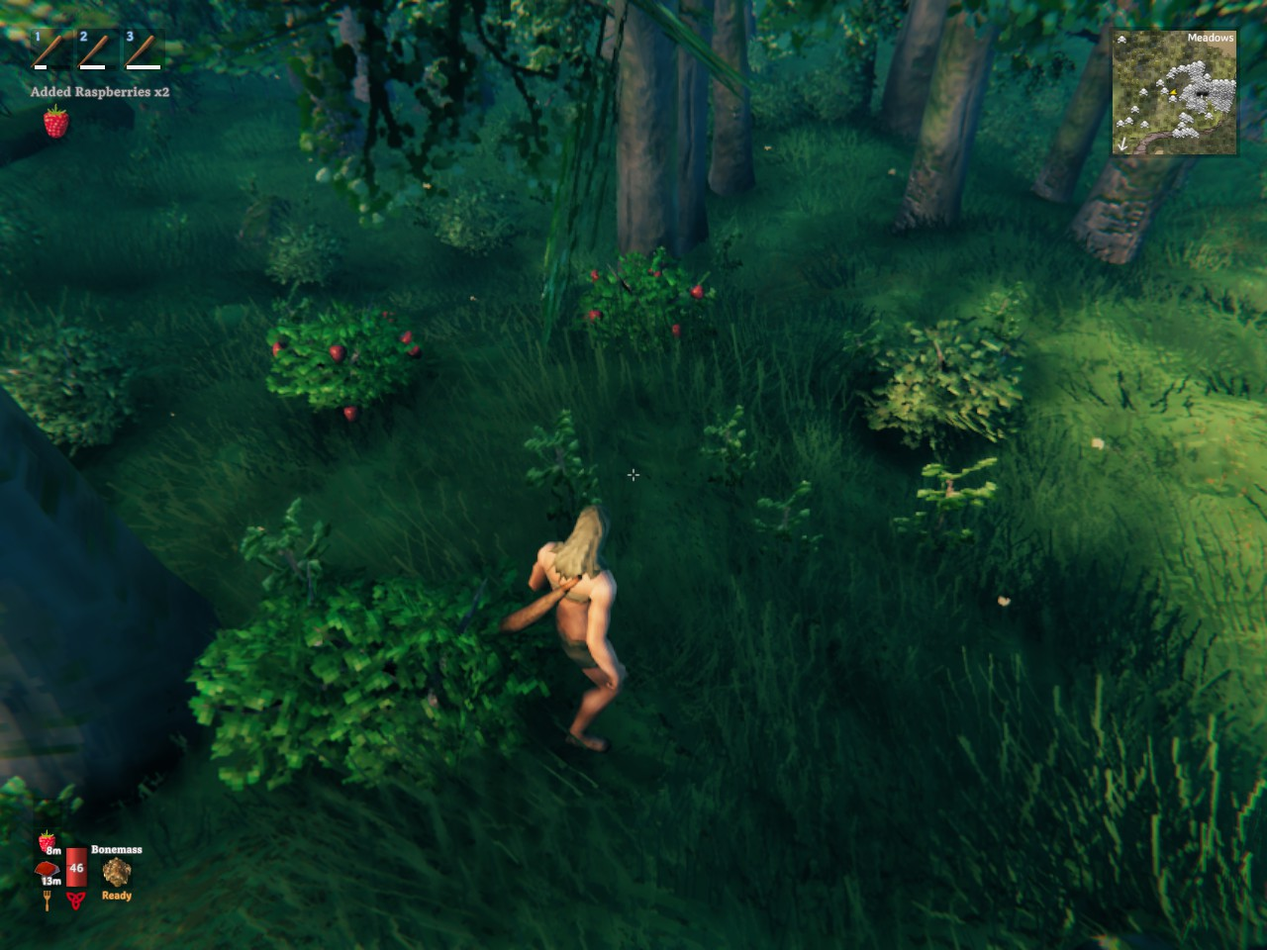Food Indicator: (36, 797, 63, 891)
Health Bar: (63, 820, 90, 891)
Hotbar: (24, 21, 195, 80)
Raspberries: (271, 317, 427, 418), (583, 259, 714, 350)
